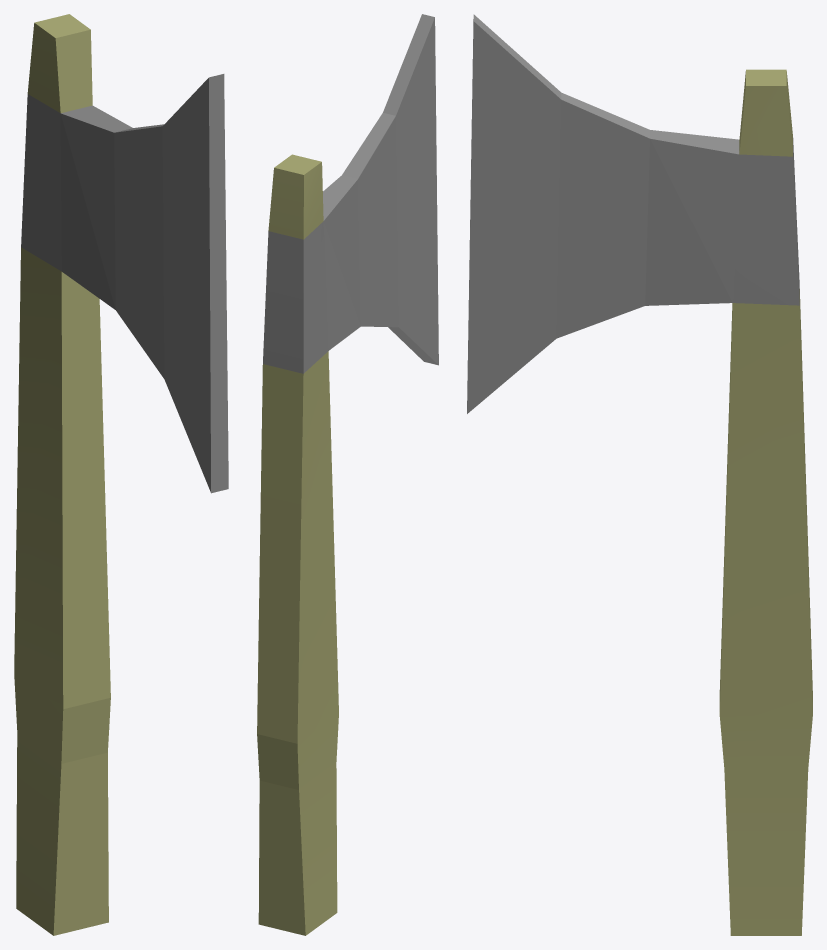
The model's file is axe.FBX.
3 views of the same model, side by side, from view 1: azimuth 30°, elevation 25°; view 2: azimuth 150°, elevation 25°; view 3: azimuth 270°, elevation 25° (orthographic). The views are drawn at different scales.
Visible parts, largest first — view 1: sword002; view 2: sword002; view 3: sword002.
Part boxes in pixels (x1,y1,x2,y2): sword002: [14, 14, 228, 935]; sword002: [257, 14, 438, 935]; sword002: [467, 14, 812, 935].
Size of the model in its own units: 6.85 by 113 by 39.
